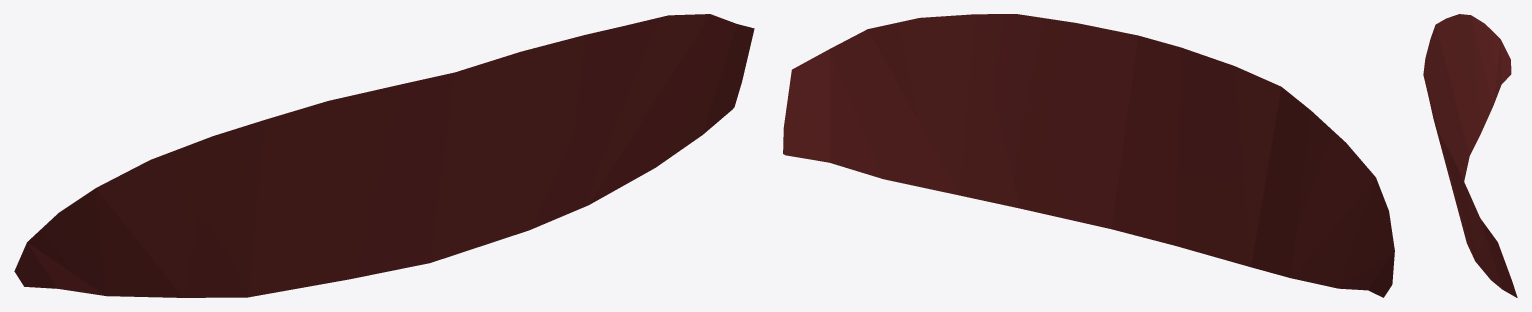
File: Mustache.fbx
3 renders of one model, left to right at view 1: azimuth 30°, elevation 25°; view 2: azimuth 150°, elevation 25°; view 3: azimuth 270°, elevation 25°, orthographic. The views are drawn at different scales.
Visible parts, largest first — view 1: Mustache; view 2: Mustache; view 3: Mustache.
Boxes of the visible parts, box(x1,y1,x2,y2) form: Mustache: box(14, 14, 754, 297); Mustache: box(783, 14, 1394, 297); Mustache: box(1423, 14, 1517, 297).
Size of the model in its own units: 40.03 by 11.17 by 6.96.
